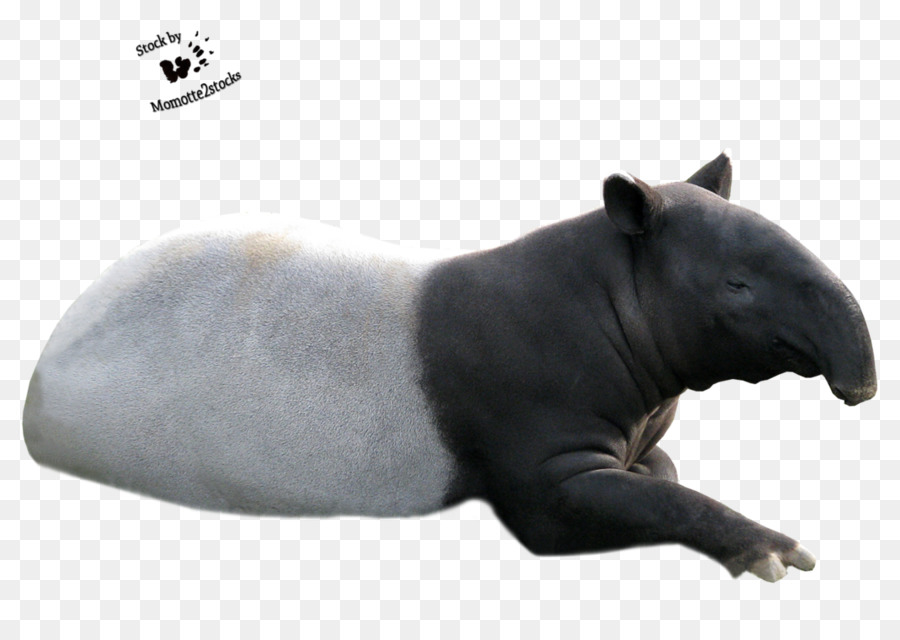Anta: (18, 151, 879, 596)
